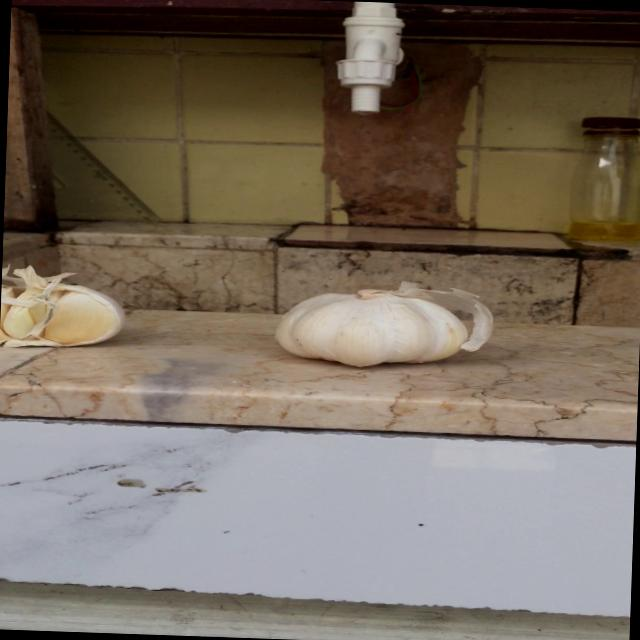garlic: (270, 273, 499, 375), (0, 262, 130, 353)
